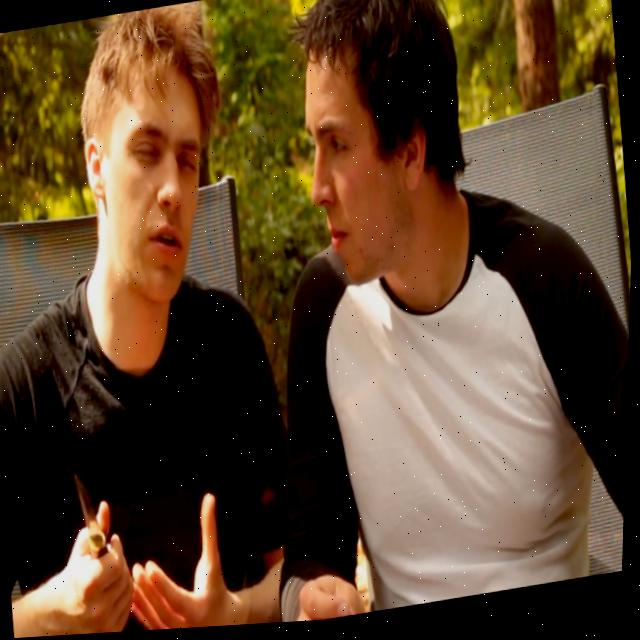knife: (70, 465, 113, 559)
